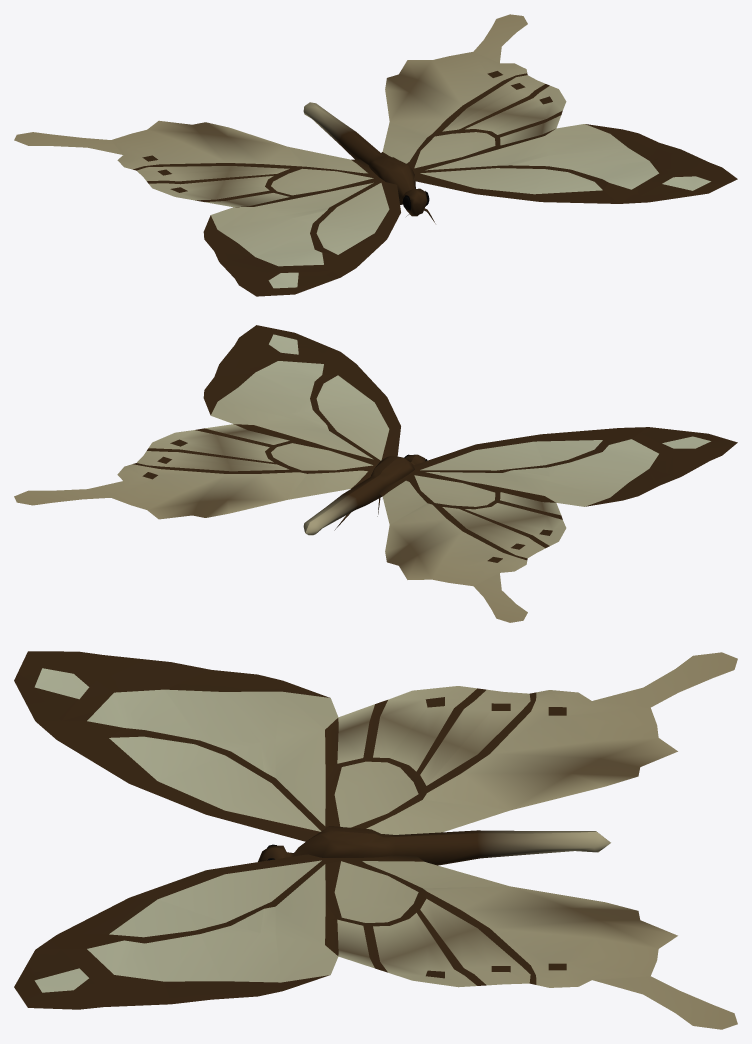
The model's file is animals-flyinginsects-mockerswallowtailbutterfly_v1.glb.
3 views of the same model, one above another, from view 1: azimuth 30°, elevation 25°; view 2: azimuth 150°, elevation 25°; view 3: azimuth 270°, elevation 25° (orthographic). The views are drawn at different scales.
Parts seen in each view (by area): view 1: MockerSwallowtailButterfly.001; view 2: MockerSwallowtailButterfly.001; view 3: MockerSwallowtailButterfly.001.
Boxes of the visible parts, x1=… form: MockerSwallowtailButterfly.001: x1=14, y1=14, x2=737, y2=296; MockerSwallowtailButterfly.001: x1=14, y1=325, x2=737, y2=622; MockerSwallowtailButterfly.001: x1=14, y1=651, x2=737, y2=1029.
Size of the model in its own units: 0.9534 by 0.1079 by 0.7728.
